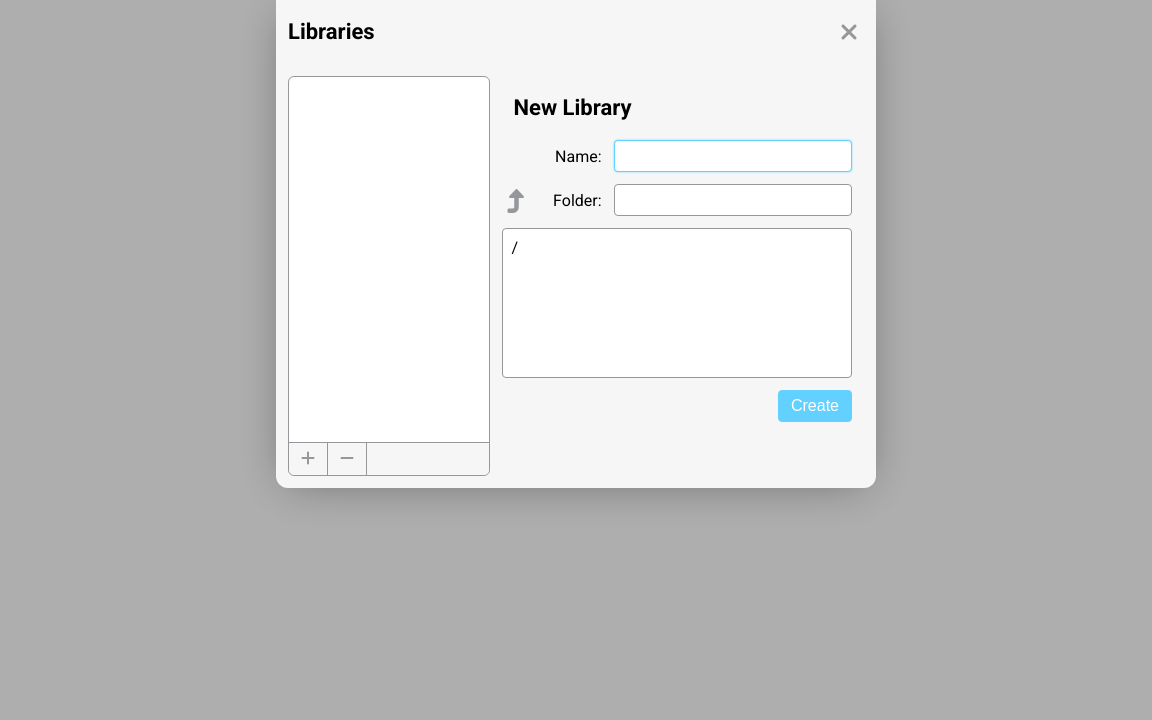
Scenario: ManageLibrariesModal › Create mode › can browse through folders
The image size is (1152, 720).
go into add mode
Click the button named "Add Library".
click(308, 459)  # box [289,443,328,475]
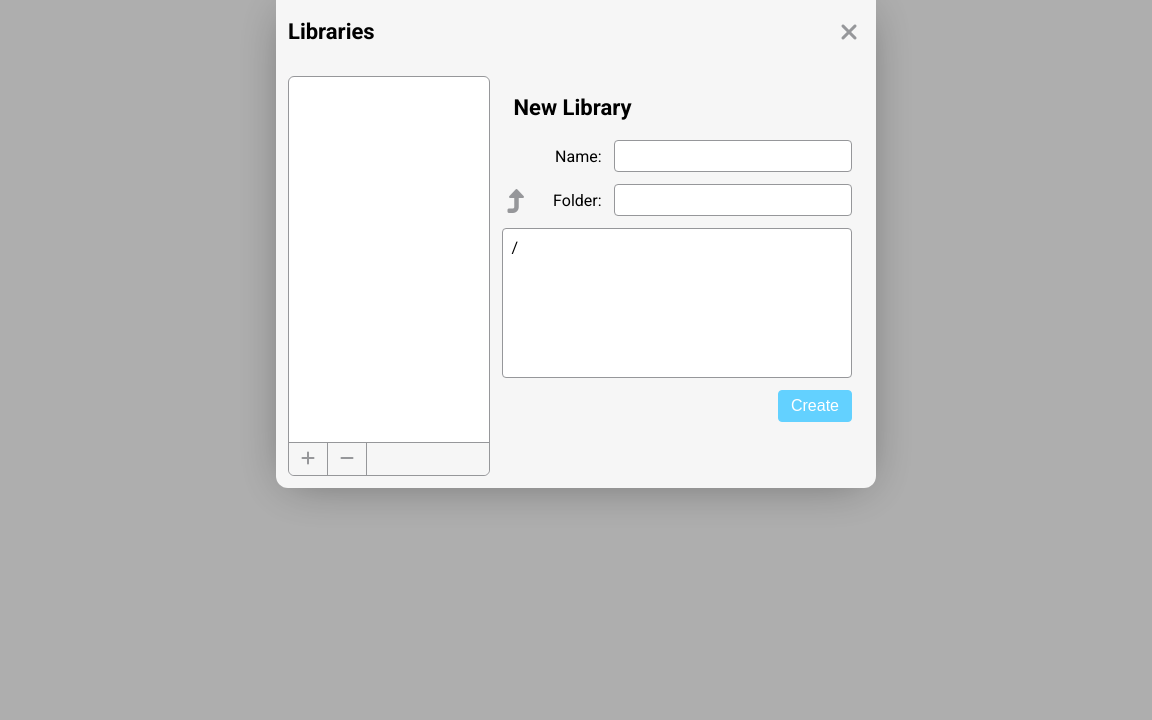
Click the text "/".
click(515, 248)  # box [512,238,518,257]
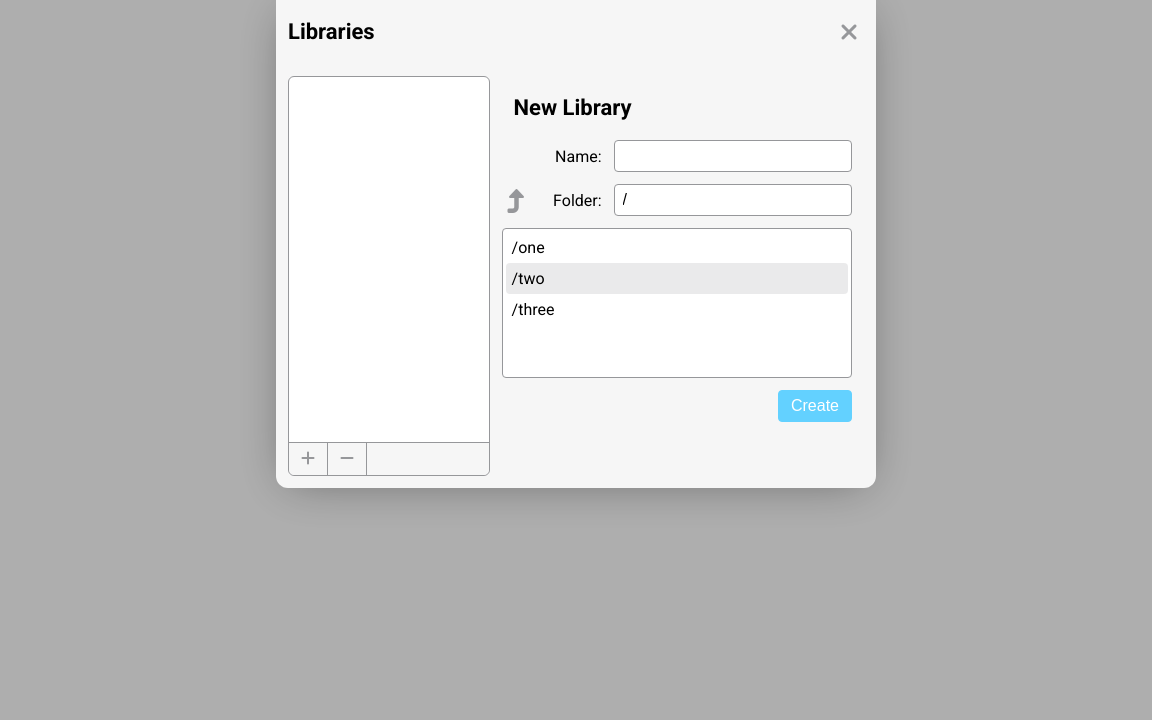
Expected: the text "/two" is shown
Click the text "/two".
click(677, 278)  # box [506,263,848,294]
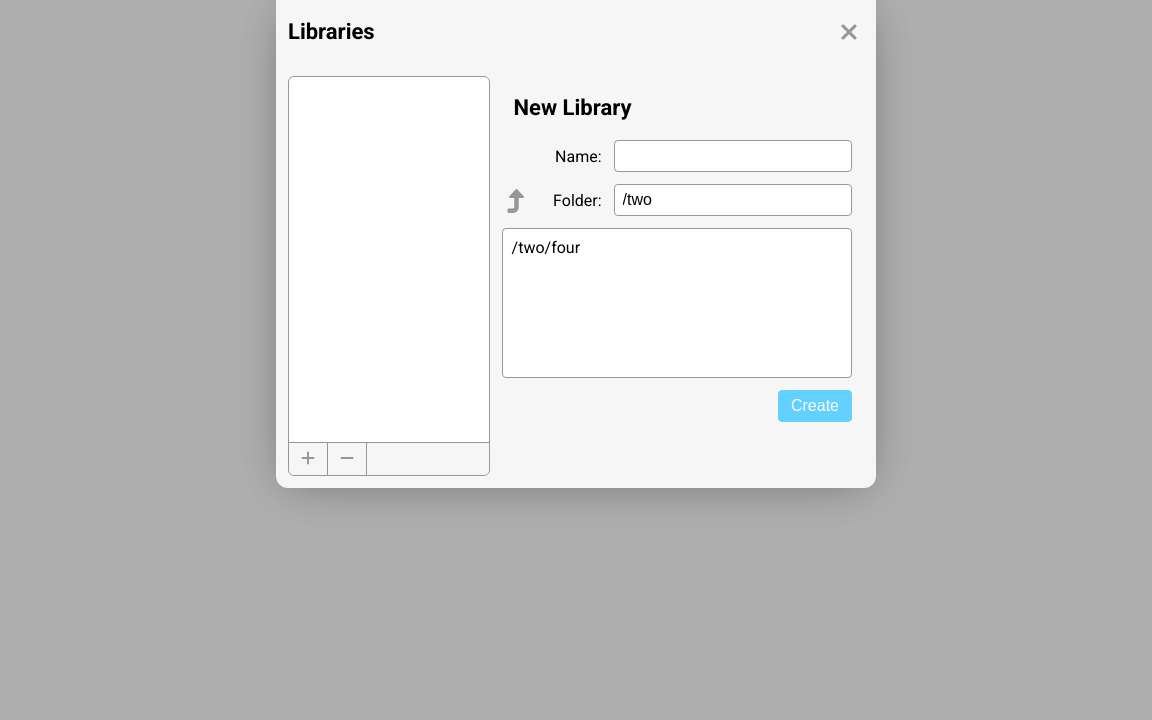
Expected: the text "/two/four" is shown, [512,238,580,257]
navigate up
Click the button named "Parent directory".
click(517, 201)  # box [502,186,532,216]
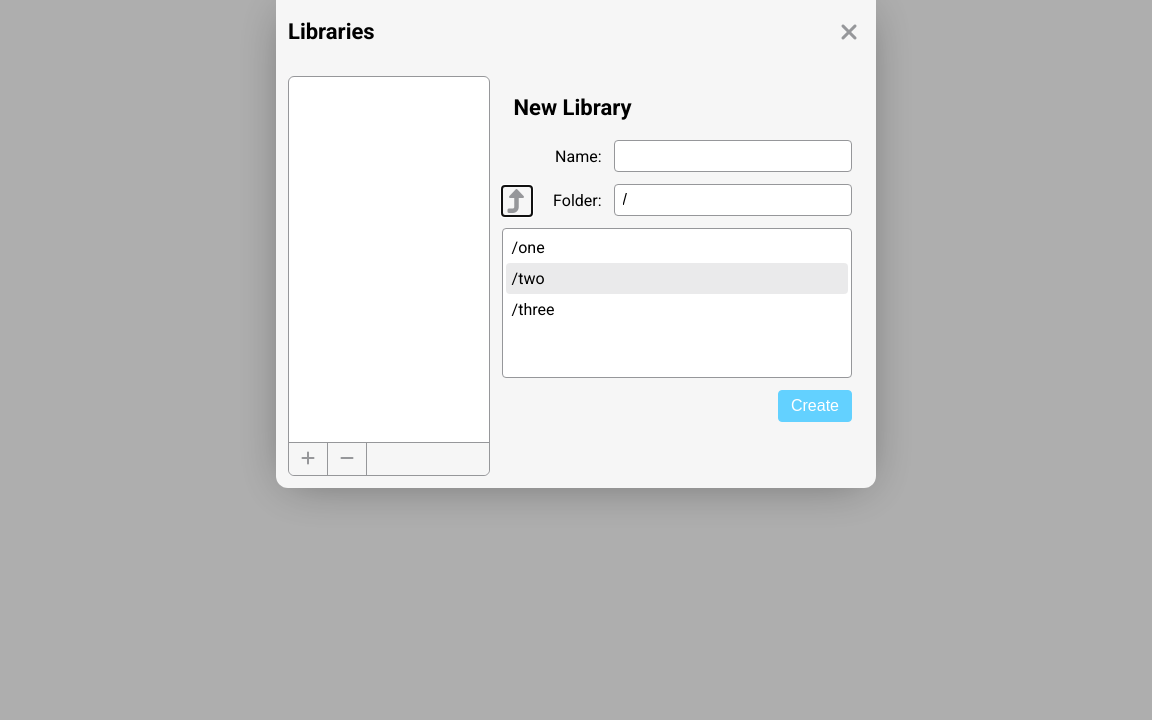
Expected: the field labelled "Folder:" holds "/", [614,184,852,216]
